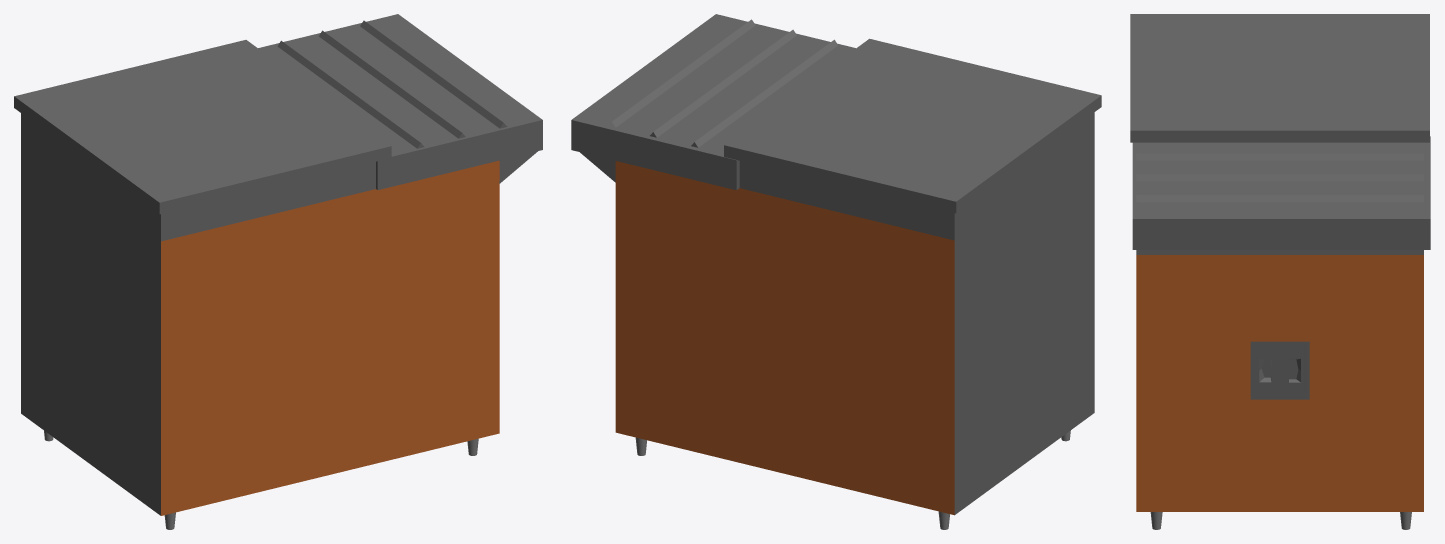
The model's file is drink_table.fbx.
3 views of the same model, side by side, from view 1: azimuth 30°, elevation 25°; view 2: azimuth 150°, elevation 25°; view 3: azimuth 270°, elevation 25° (orthographic). The views are drawn at different scales.
Parts seen in each view (by area): view 1: Cube; view 2: Cube; view 3: Cube.
Boxes of the visible parts, x1,y1,x2,y2 form: Cube: (14,14,542,515); Cube: (571,14,1101,515); Cube: (1130,14,1430,511).
Bounding box in the file's own units: 317 × 268 × 208.
